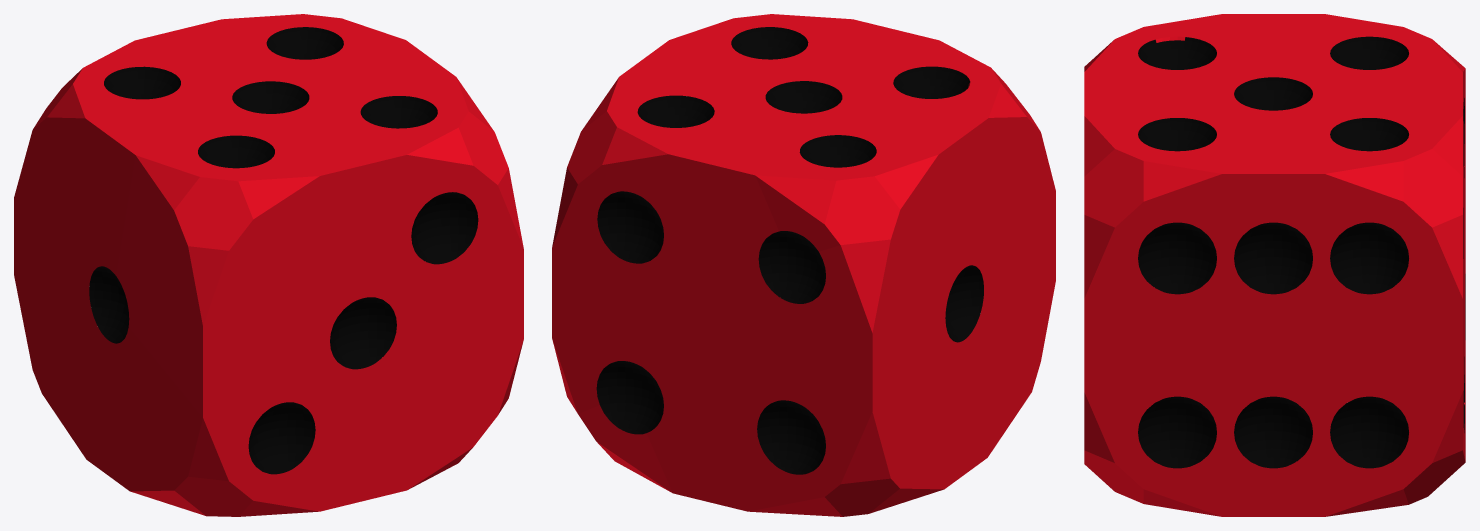
File: dice.gltf
3 renders of one model, left to right at view 1: azimuth 30°, elevation 25°; view 2: azimuth 150°, elevation 25°; view 3: azimuth 270°, elevation 25°, orthographic. The views are drawn at different scales.
Parts seen in each view (by area): view 1: Cube; view 2: Cube; view 3: Cube.
Boxes of the visible parts, x1,y1,x2,y2 form: Cube: (14,14,523,516); Cube: (552,14,1055,516); Cube: (1084,14,1465,516).
Size of the model in its own units: 1.99 by 1.99 by 1.99.
